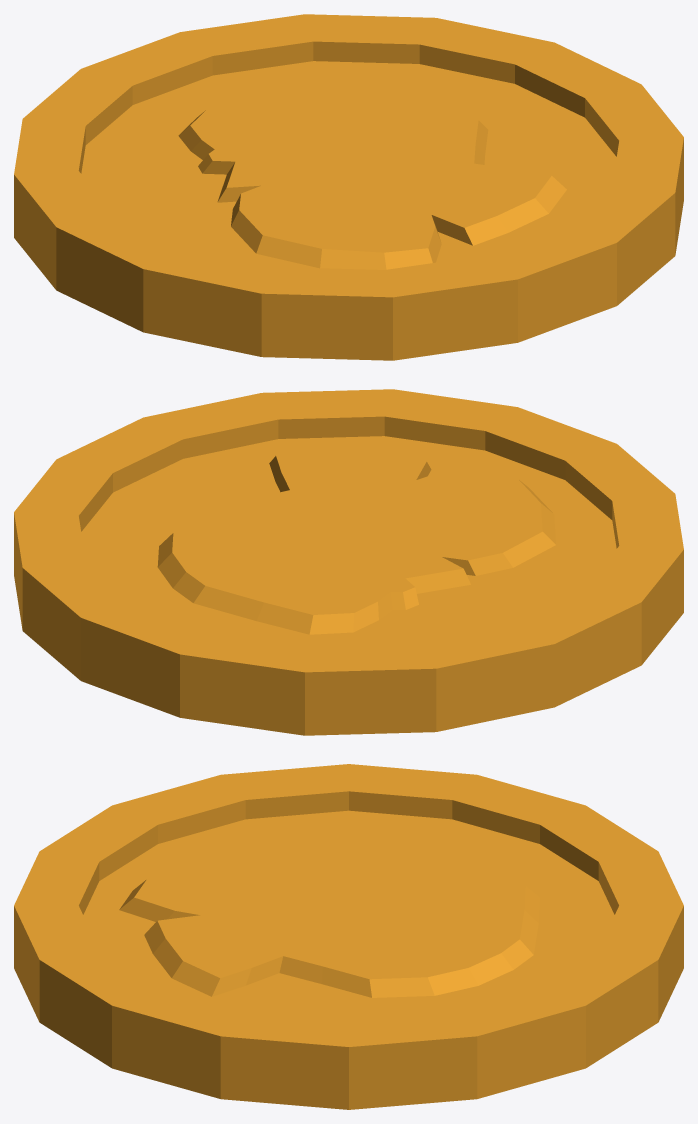
Rendered from Coin.glb.
The picture shows the model from 3 angles, top to bottom: view 1: azimuth 30°, elevation 25°; view 2: azimuth 150°, elevation 25°; view 3: azimuth 270°, elevation 25°; orthographic projection.
Parts seen in each view (by area): view 1: Coin; view 2: Coin; view 3: Coin.
Boxes of the visible parts, <box> form: Coin: <box>14,14,683,360</box>; Coin: <box>14,389,683,735</box>; Coin: <box>14,764,683,1109</box>.
Bounding box in the file's own units: 0.9434 × 0.1043 × 0.9434.
